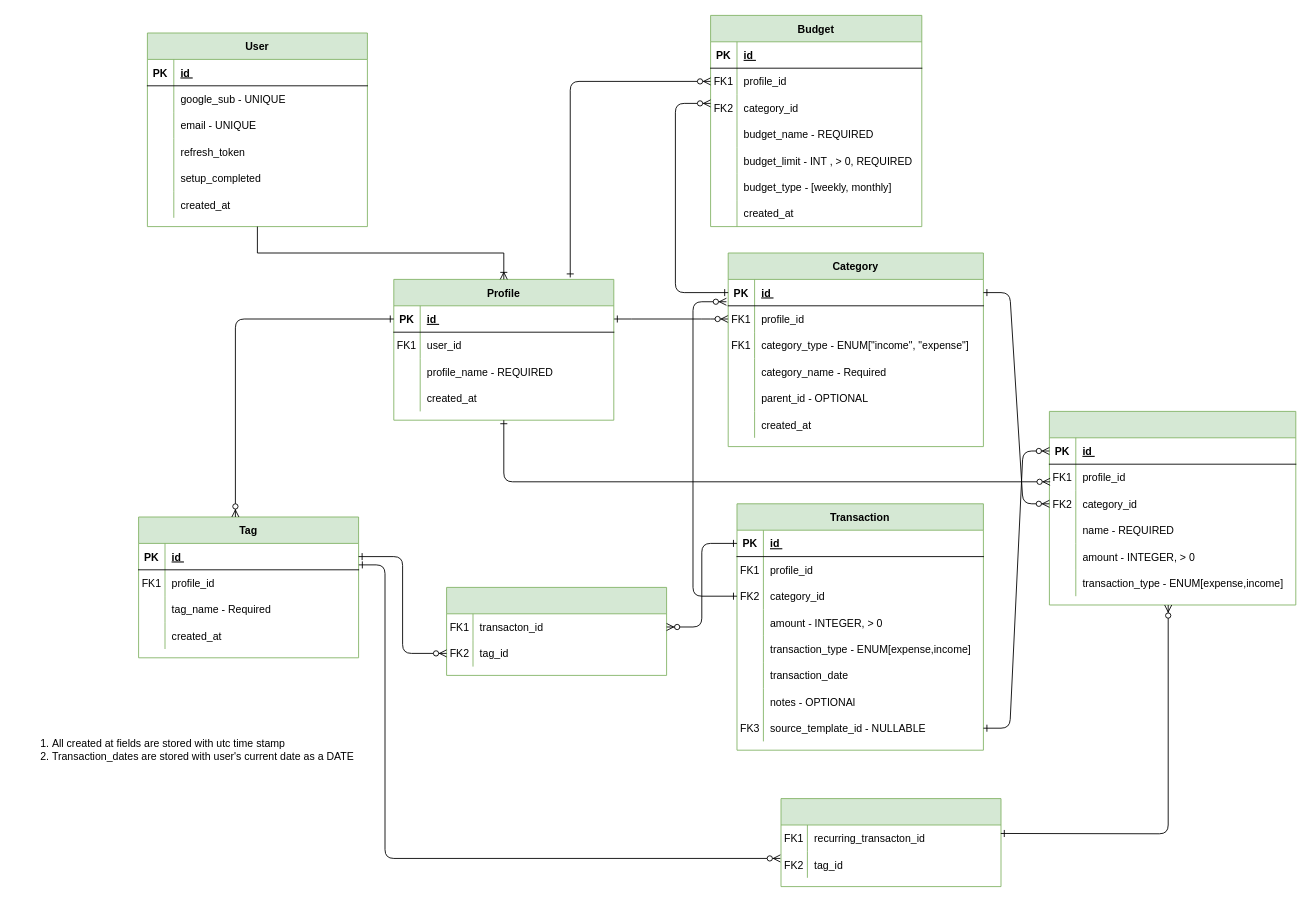
Some shapes in this 1311 by 902 pixel diagram are drawn without their labels. Here are the shapes that lost their labels. From the top down, the box of each, then its label:
(1049, 411, 1296, 605): Recurring_Transaction_Template
(446, 587, 667, 675): Transaction_Tags
(780, 798, 1001, 887): Recurring_Transaction_Tags
